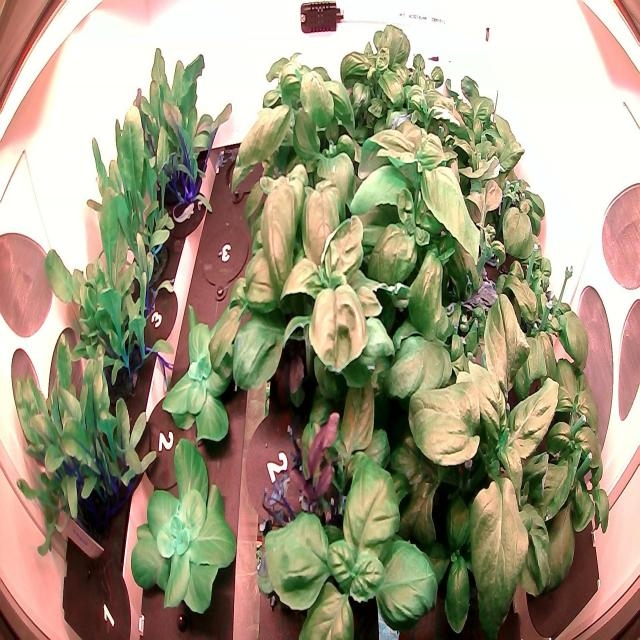empty_pod: (193, 201, 254, 303), (218, 130, 276, 215)
young: (125, 430, 244, 634), (154, 288, 252, 453)
